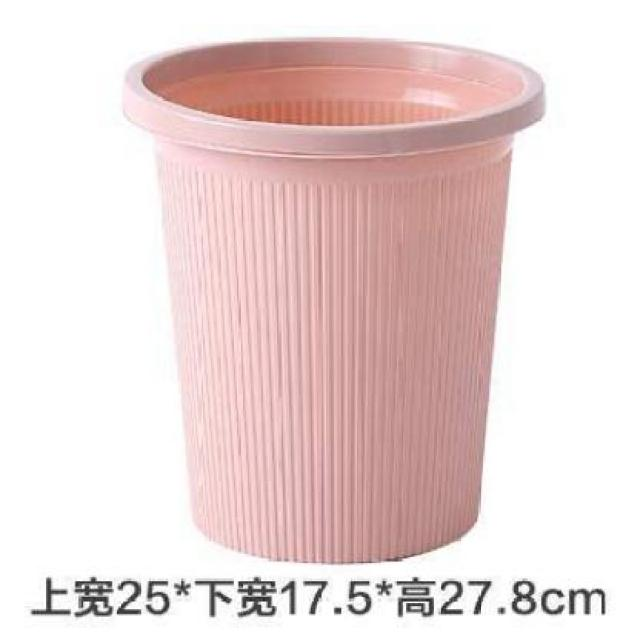dustbin: (115, 30, 554, 572)
